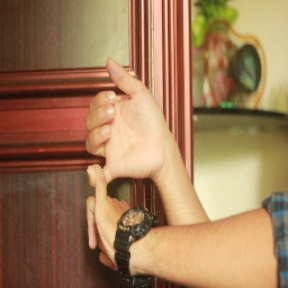S: (81, 57, 174, 280)
